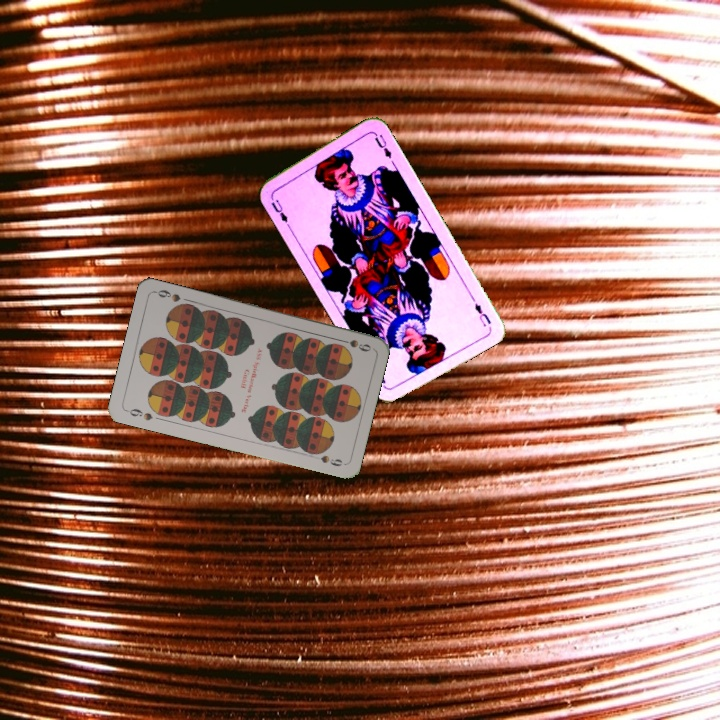EU: (267, 195, 292, 229), (470, 299, 494, 329)
S9: (334, 335, 373, 354), (122, 404, 155, 423)
